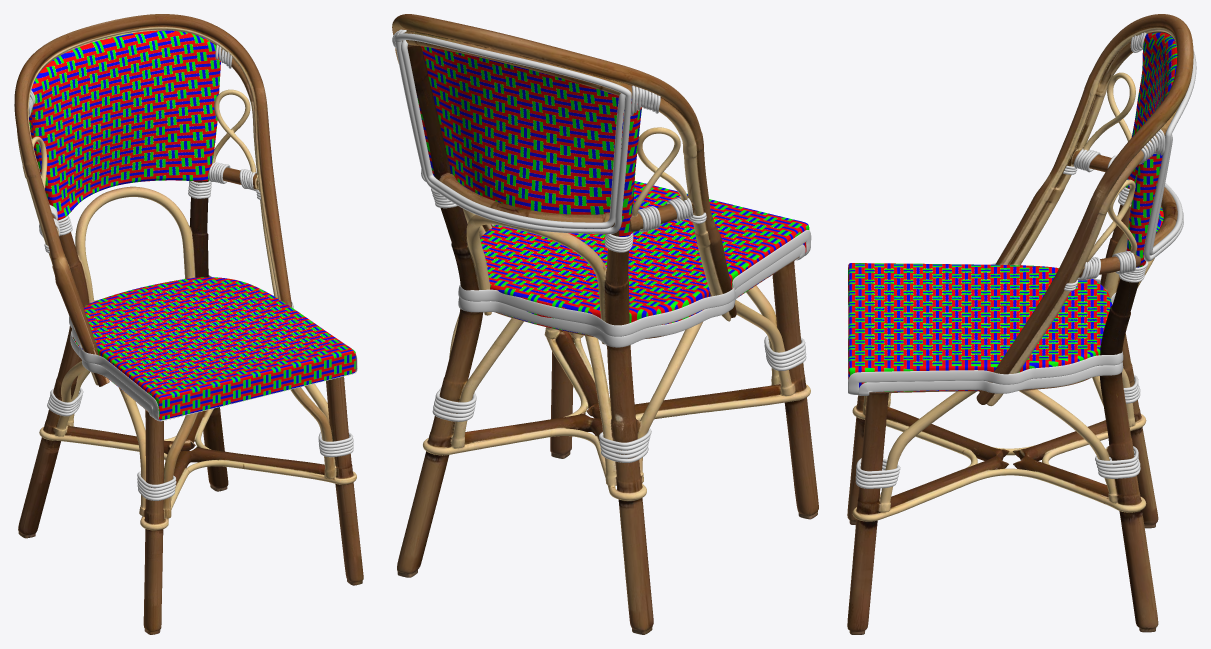
File: ogive-natte.glb
The picture shows the model from 3 angles, left to right: view 1: azimuth 30°, elevation 25°; view 2: azimuth 150°, elevation 25°; view 3: azimuth 270°, elevation 25°; orthographic projection. The views are drawn at different scales.
Parts seen in each view (by area): view 1: mesh_tressage, mesh_structure, mesh_laniere; view 2: mesh_structure, mesh_tressage, mesh_laniere; view 3: mesh_structure, mesh_tressage, mesh_laniere.
Part boxes in pixels (left/top/right/bottom): mesh_tressage: left=29, top=30, right=355, bottom=420; mesh_structure: left=14, top=14, right=363, bottom=634; mesh_laniere: left=14, top=44, right=357, bottom=500; mesh_structure: left=392, top=14, right=818, bottom=634; mesh_tressage: left=416, top=46, right=809, bottom=334; mesh_laniere: left=392, top=29, right=811, bottom=462; mesh_structure: left=847, top=14, right=1193, bottom=634; mesh_tressage: left=848, top=32, right=1177, bottom=391; mesh_laniere: left=848, top=32, right=1196, bottom=488.
Bounding box in the file's own units: 0.481 × 0.9003 × 0.5384.
2 materials, 2 textured.
